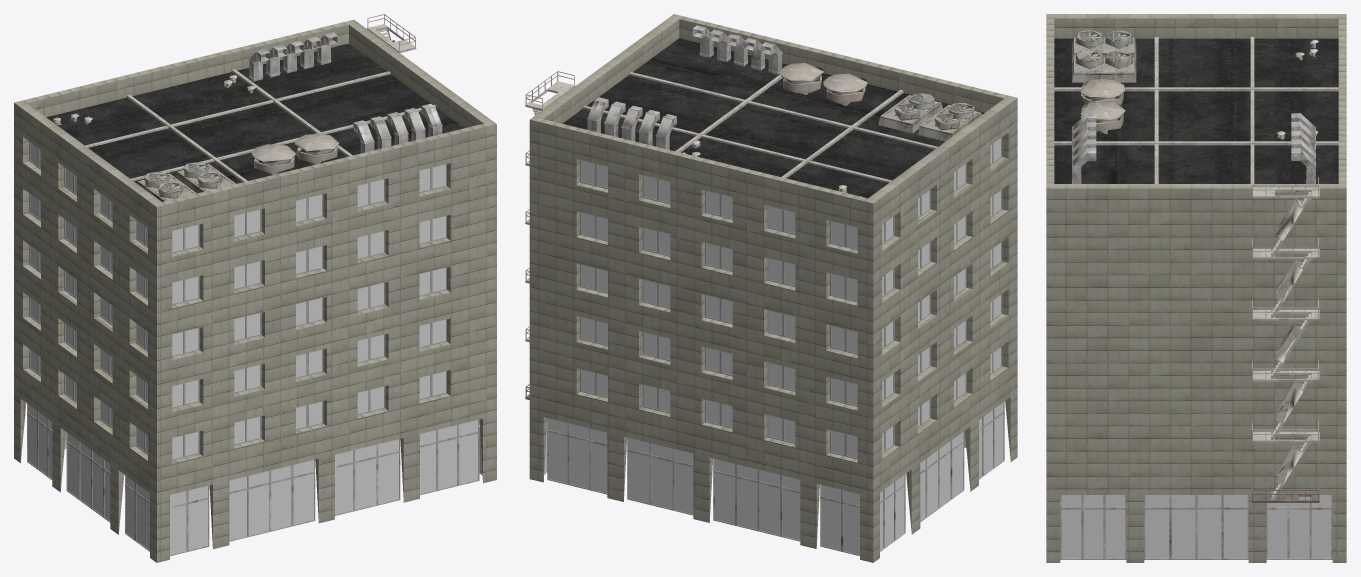
File: KB3D_NEC_BldgLG_A_BuildingD.glb
3 renders of one model, left to right at view 1: azimuth 30°, elevation 25°; view 2: azimuth 150°, elevation 25°; view 3: azimuth 270°, elevation 25°, orthographic. The views are drawn at different scales.
Visible parts, largest first — view 1: KB3D_NEC_BldgLG_A_BuildingD; view 2: KB3D_NEC_BldgLG_A_BuildingD; view 3: KB3D_NEC_BldgLG_A_BuildingD.
Boxes of the visible parts, x1,y1,x2,y2 form: KB3D_NEC_BldgLG_A_BuildingD: (14, 14, 496, 562); KB3D_NEC_BldgLG_A_BuildingD: (525, 14, 1017, 562); KB3D_NEC_BldgLG_A_BuildingD: (1046, 14, 1346, 562).
Size of the model in its own units: 20.02 by 19.78 by 13.86.
8 materials, 7 textured.
